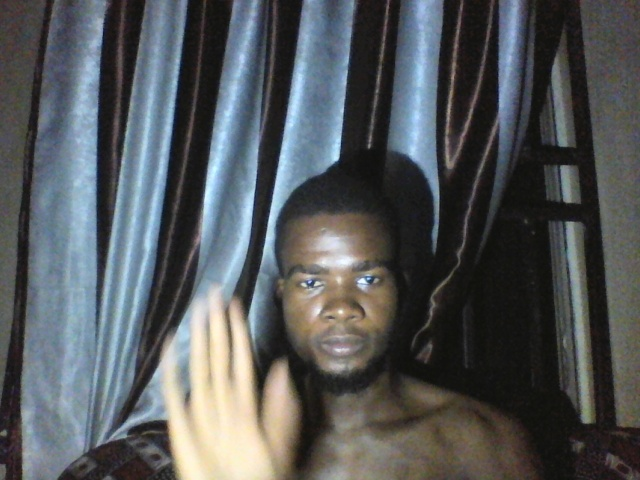hello: (160, 283, 301, 480)
